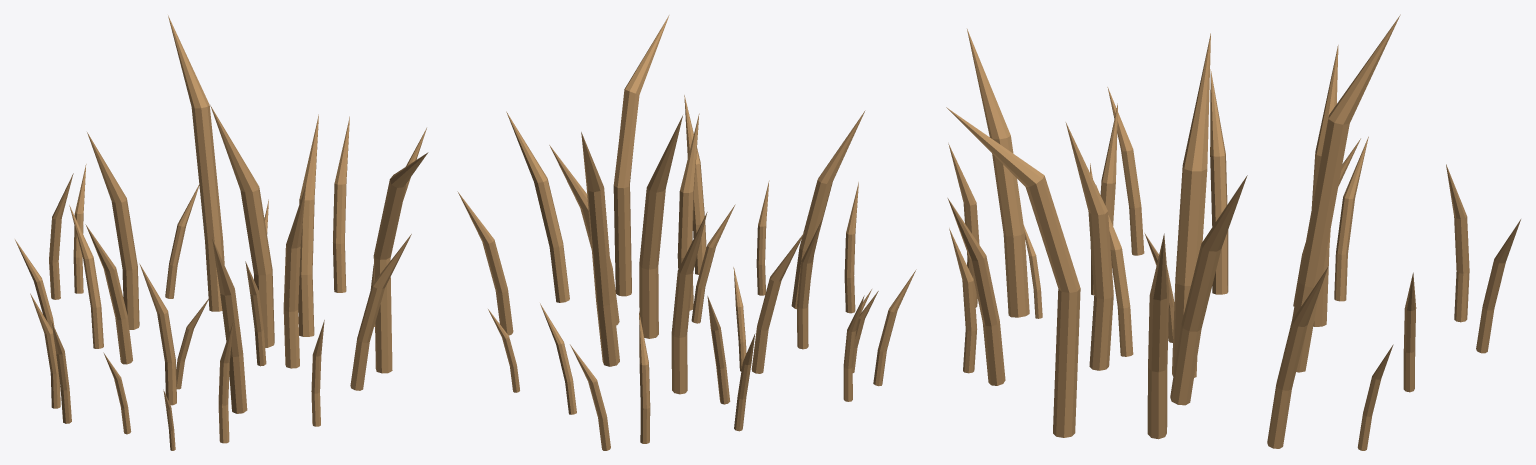
The model's file is Grass_3.fbx.
3 renders of one model, left to right at view 1: azimuth 30°, elevation 25°; view 2: azimuth 150°, elevation 25°; view 3: azimuth 270°, elevation 25°, orthographic. The views are drawn at different scales.
Visible parts, largest first — view 1: Grass_3; view 2: Grass_3; view 3: Grass_3.
Part boxes in pixels (x1,y1,x2,y2): Grass_3: (15, 15, 428, 450); Grass_3: (457, 15, 916, 450); Grass_3: (946, 14, 1520, 450).
Bounding box in the file's own units: 254 × 246 × 184.
